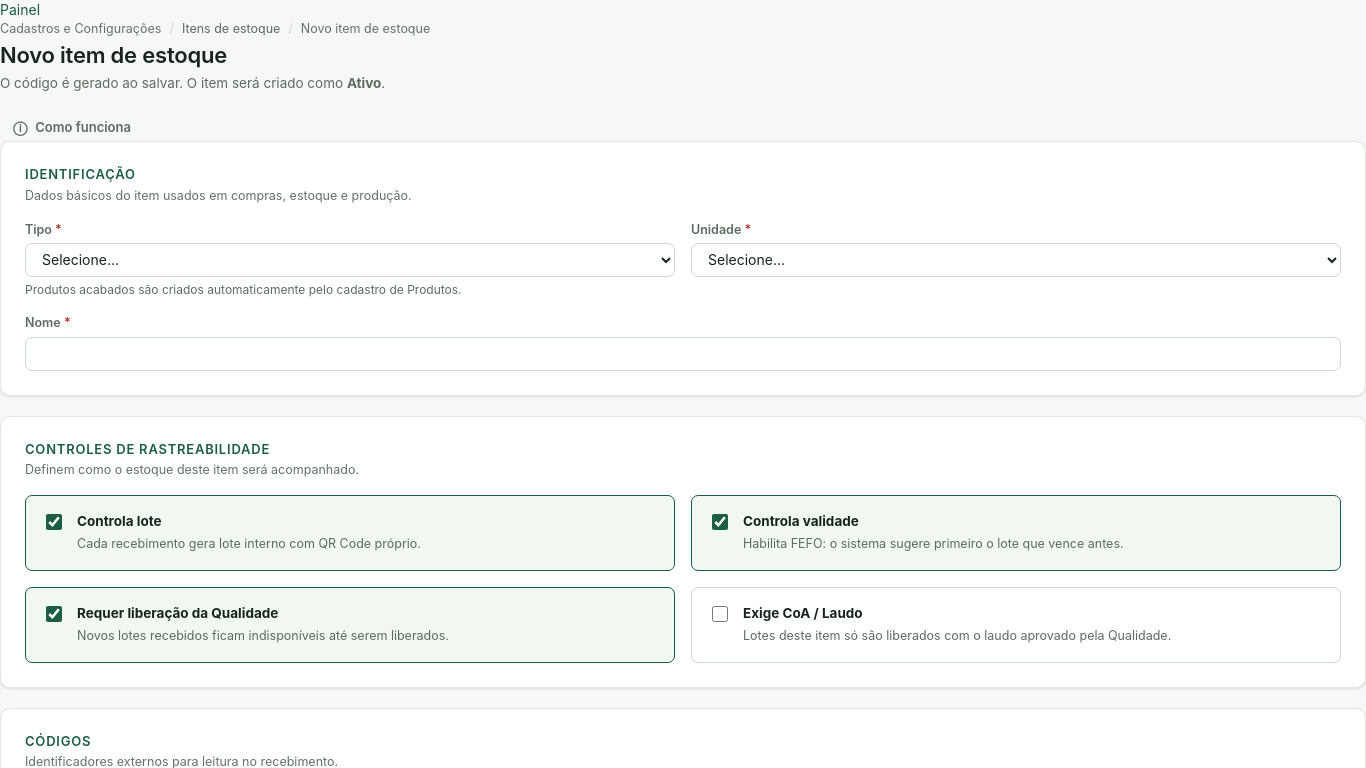
Test: Item novo — guarda de alterações não salvas › nome digitado pergunta antes de sair
The width and height of the screenshot is (1366, 768).
Expected: the heading "Novo item de estoque" is shown, [0,42,227,68]
Type "Creatina monoidratada" into the field with id "item-name" at (683,354), box [25,336,1341,370]
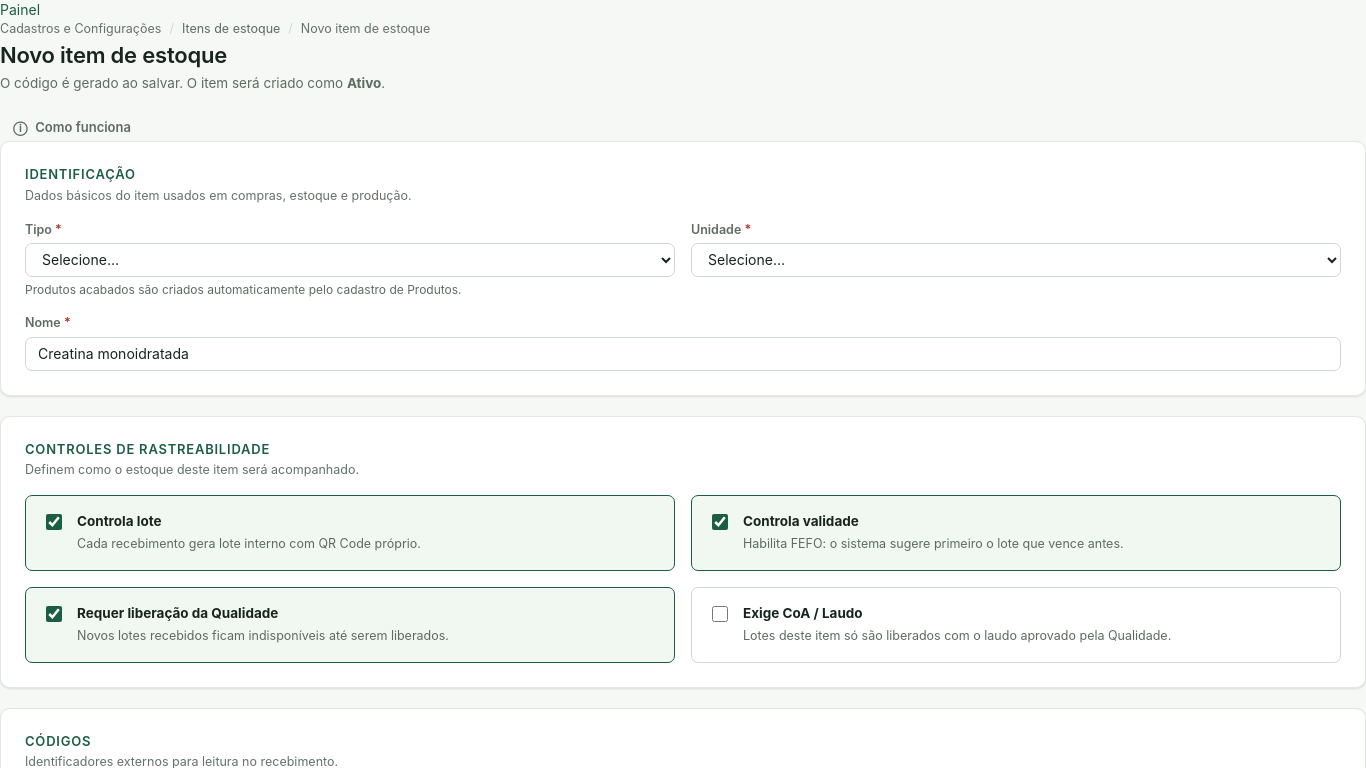
Click the link "Painel" at (20,10), box [0,1,40,18]
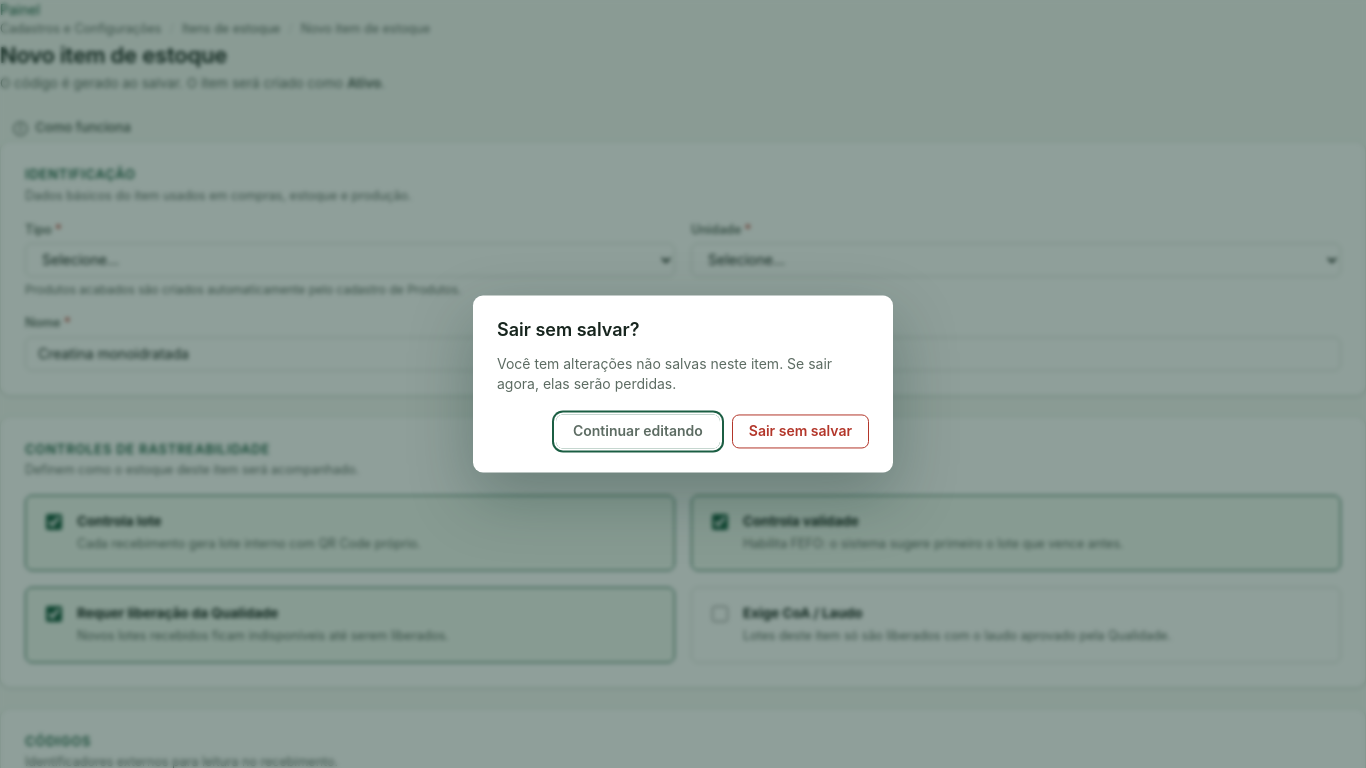
Expected: the heading "Sair sem salvar?" is shown, [497,320,640,340]
Expected: the text "alterações não salvas neste item" is shown, [497,354,869,395]
